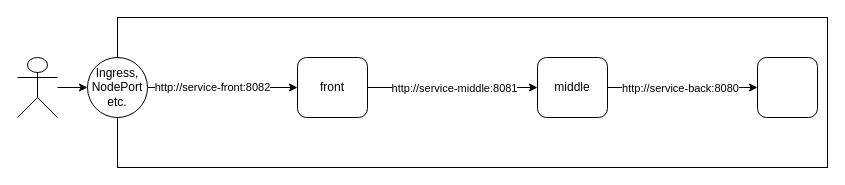
Some shapes in this 845 by 185 pixel diagram are drawn without their labels. The centre of each missing label's shape, as x and y in pixels:
back: (x=787, y=87)
Client: (x=37, y=87)
